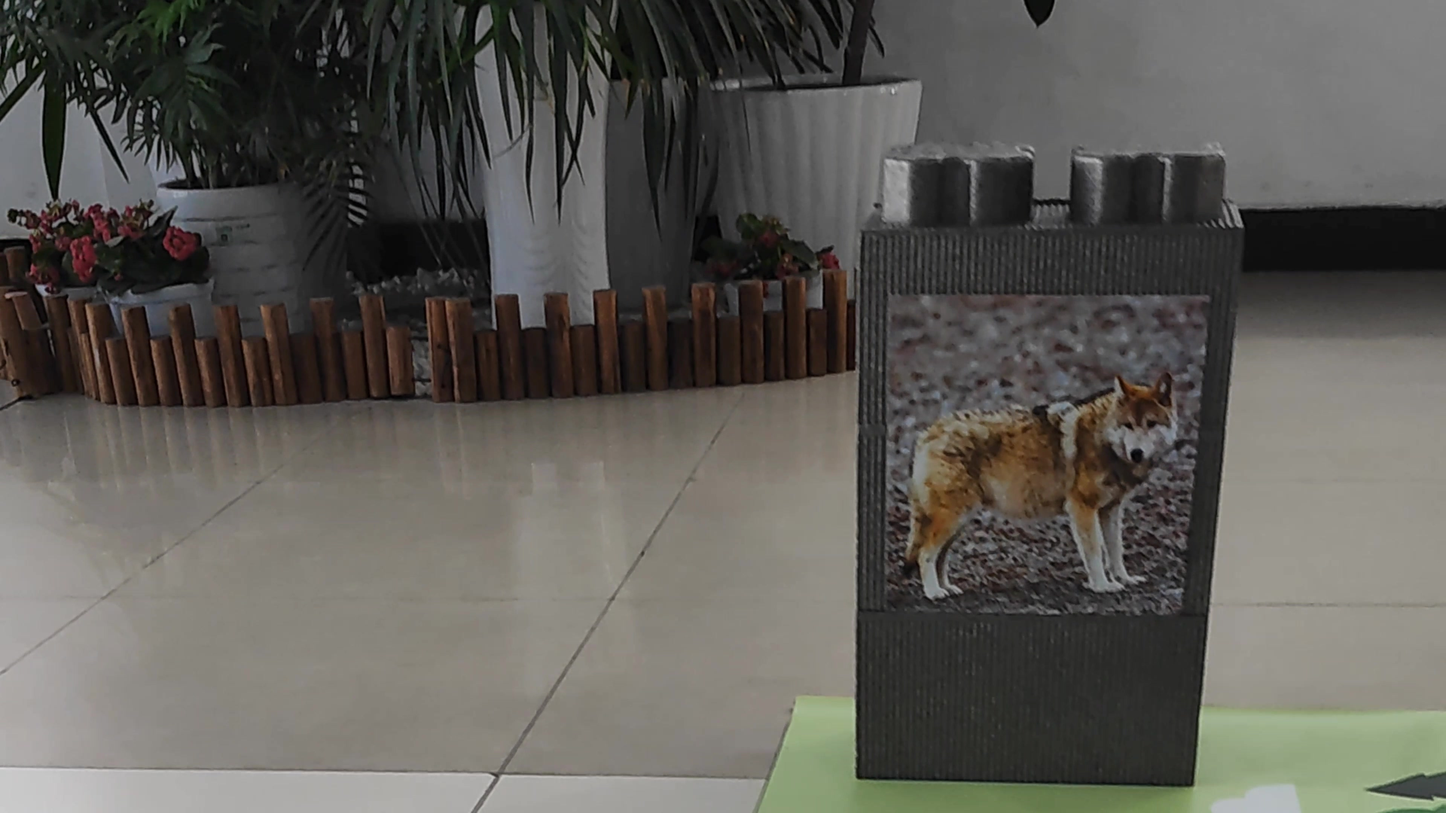wolf: (882, 345, 1189, 604)
